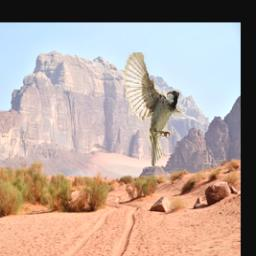Sparrow: (126, 49, 186, 166)
